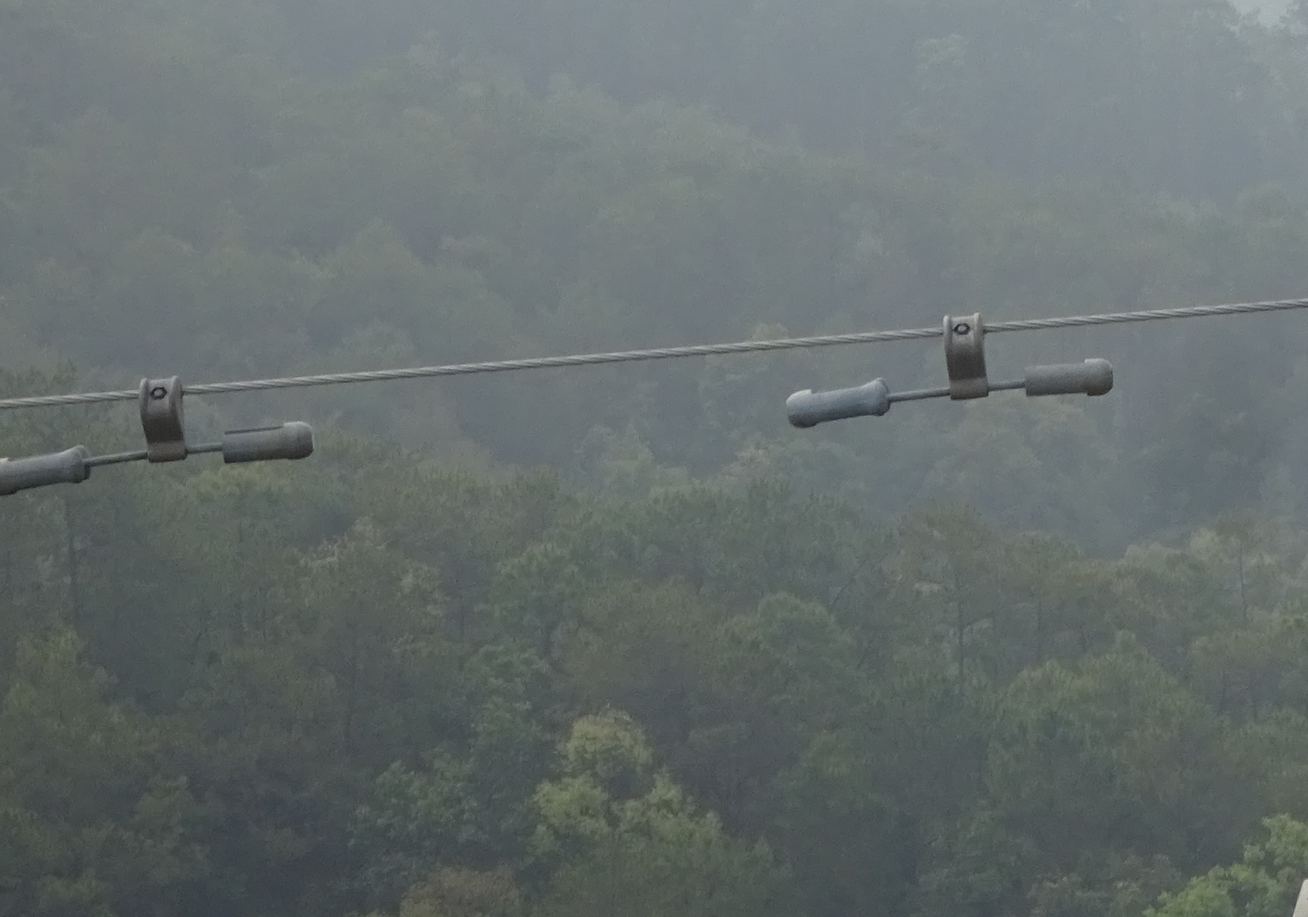damper: (783, 306, 1120, 431), (1, 374, 316, 503)
